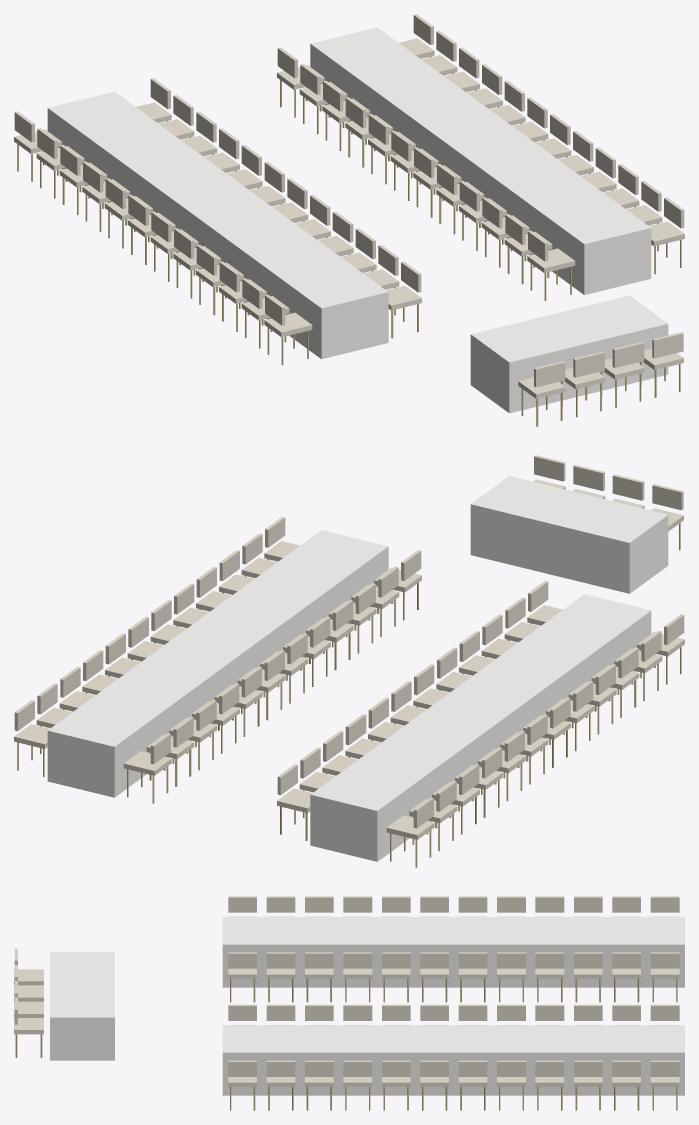
The model's file is rect-parallel-7.glb.
3 renders of one model, top to bottom at view 1: azimuth 30°, elevation 25°; view 2: azimuth 150°, elevation 25°; view 3: azimuth 270°, elevation 25°, orthographic. The views are drawn at different scales.
Size of the model in its own units: 6.14 by 0.85 by 10.48.
